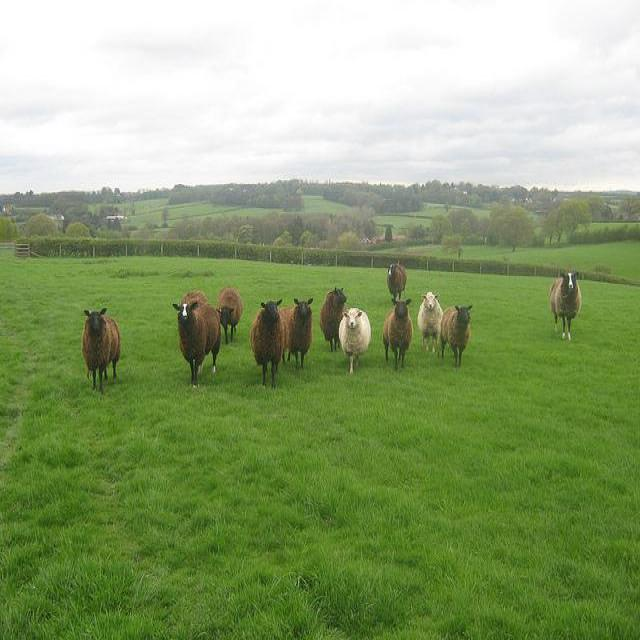Sheep: (172, 303, 223, 389), (82, 308, 121, 393), (278, 297, 314, 372), (339, 308, 372, 375), (440, 304, 473, 365)
